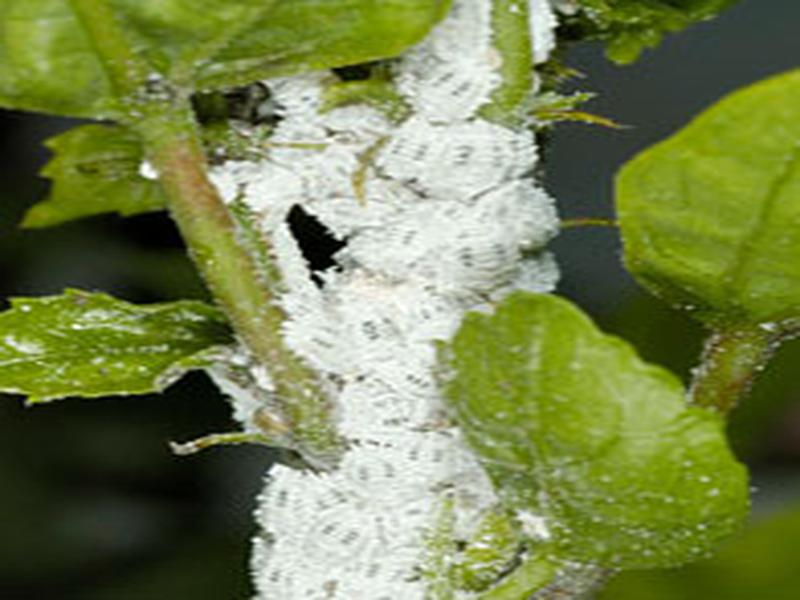Mealy_bug: (263, 63, 590, 444), (256, 459, 547, 600)
